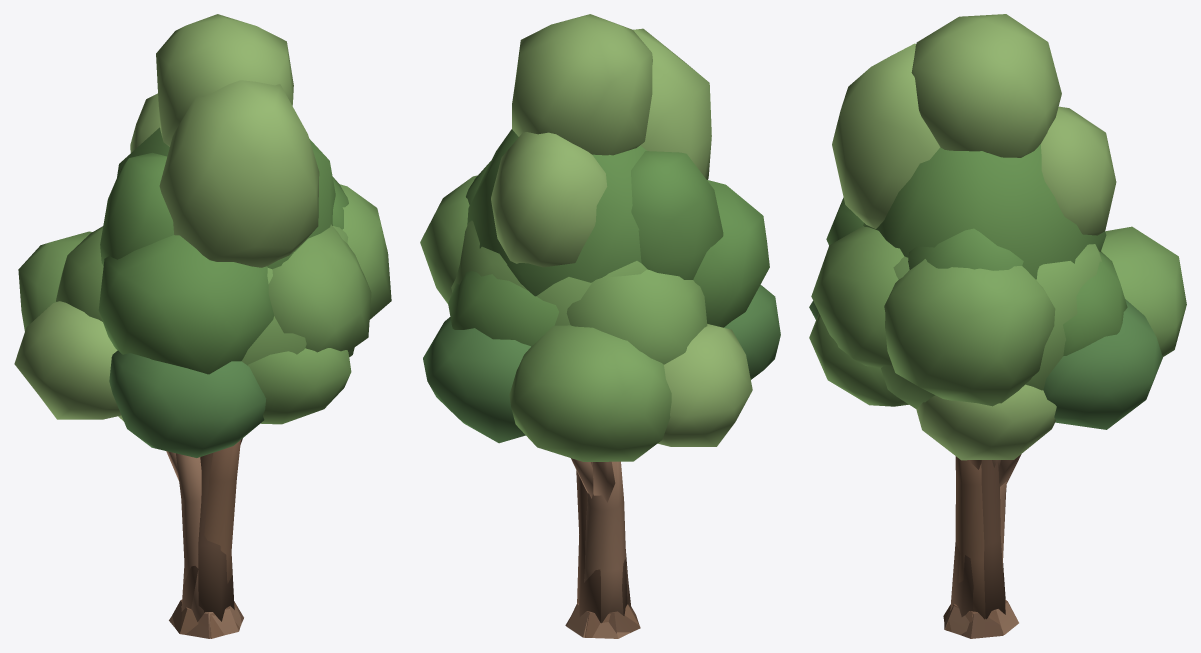
Rendered from tree.deciduous.glb.
The picture shows the model from 3 angles, left to right: view 1: azimuth 30°, elevation 25°; view 2: azimuth 150°, elevation 25°; view 3: azimuth 270°, elevation 25°; orthographic projection. The views are drawn at different scales.
Parts seen in each view (by area): view 1: tree.deciduous.v1.canopy, tree.deciduous.v0.canopy, tree.deciduous.v2.canopy, tree.deciduous.v1.trunk, tree.deciduous.v0.trunk, tree.deciduous.v2.trunk; view 2: tree.deciduous.v1.canopy, tree.deciduous.v2.canopy, tree.deciduous.v0.canopy, tree.deciduous.v2.trunk, tree.deciduous.v1.trunk; view 3: tree.deciduous.v1.canopy, tree.deciduous.v0.canopy, tree.deciduous.v2.canopy, tree.deciduous.v1.trunk, tree.deciduous.v0.trunk, tree.deciduous.v2.trunk.
Part boxes in pixels (bbox=[...]): tree.deciduous.v1.canopy: bbox=[100, 14, 348, 269]; tree.deciduous.v0.canopy: bbox=[56, 184, 391, 374]; tree.deciduous.v2.canopy: bbox=[14, 231, 351, 457]; tree.deciduous.v1.trunk: bbox=[172, 453, 243, 638]; tree.deciduous.v0.trunk: bbox=[180, 438, 242, 638]; tree.deciduous.v2.trunk: bbox=[166, 451, 241, 634]; tree.deciduous.v1.canopy: bbox=[466, 14, 723, 296]; tree.deciduous.v2.canopy: bbox=[423, 284, 780, 461]; tree.deciduous.v0.canopy: bbox=[420, 175, 769, 364]; tree.deciduous.v2.trunk: bbox=[566, 458, 631, 638]; tree.deciduous.v1.trunk: bbox=[565, 470, 640, 633]; tree.deciduous.v1.canopy: bbox=[832, 14, 1116, 279]; tree.deciduous.v0.canopy: bbox=[811, 197, 1127, 408]; tree.deciduous.v2.canopy: bbox=[809, 226, 1186, 460]; tree.deciduous.v1.trunk: bbox=[950, 460, 1005, 638]; tree.deciduous.v0.trunk: bbox=[943, 456, 1016, 631]; tree.deciduous.v2.trunk: bbox=[944, 454, 1021, 634].
Size of the model in its own units: 2.03 by 3.48 by 1.94.
